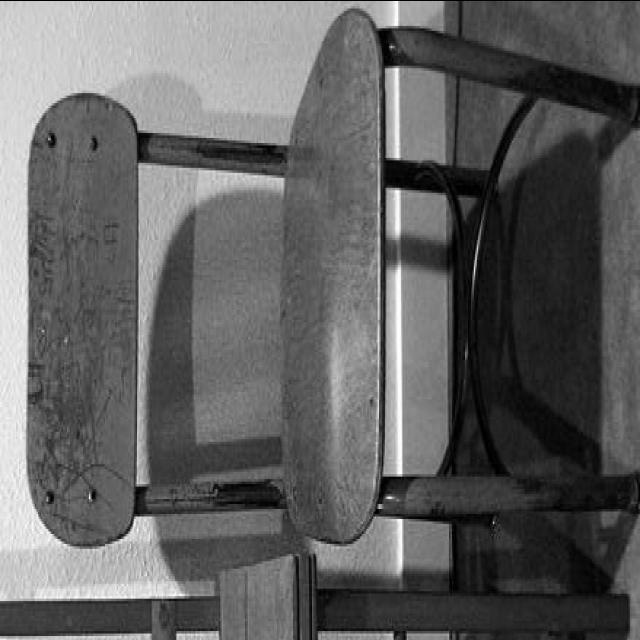chair: (22, 6, 639, 570)
